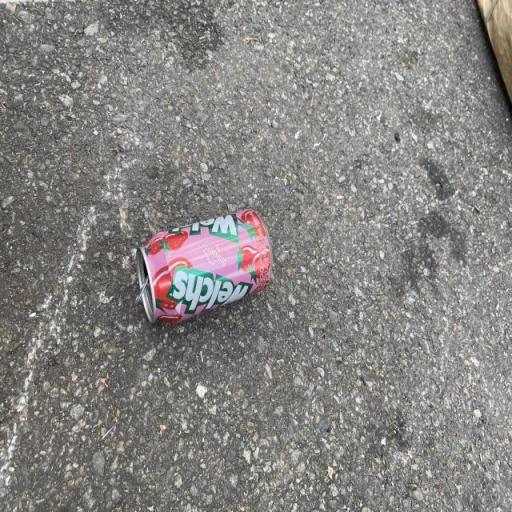metal: (110, 192, 292, 326)
